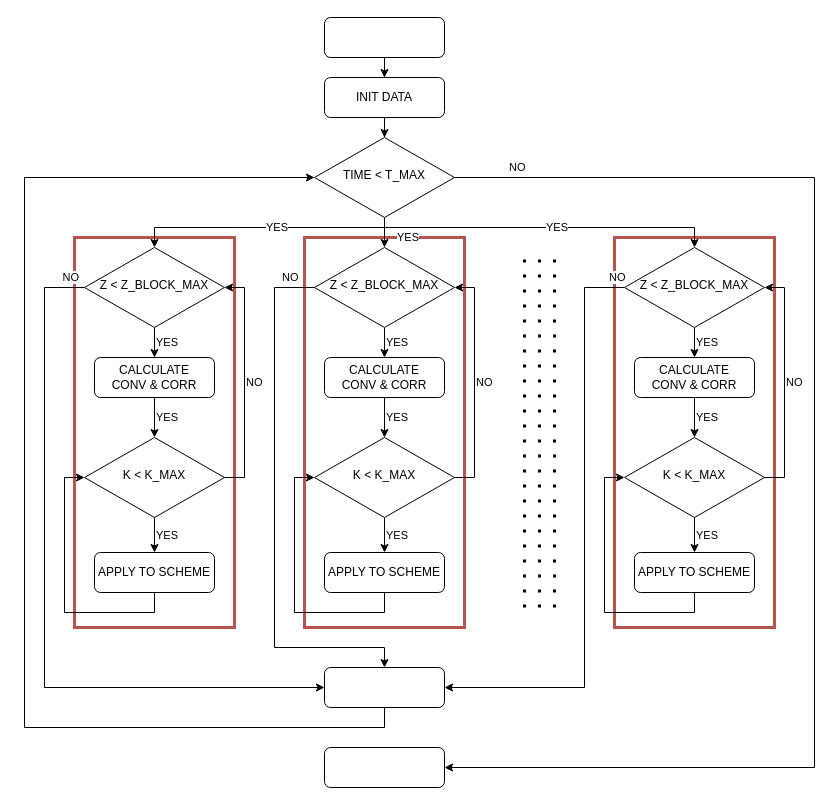
Some shapes in this 840 by 805 pixel diagram are drawn without their labels. The centre of each missing label's shape, as x and y in pixels:
SAVE DATA: (x=384, y=687)
START: (x=384, y=37)
STOP: (x=384, y=767)
